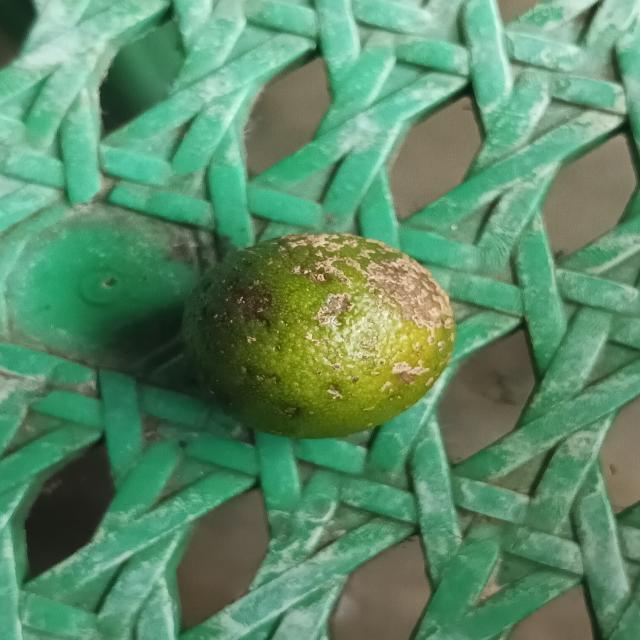scab: (174, 228, 455, 444)
